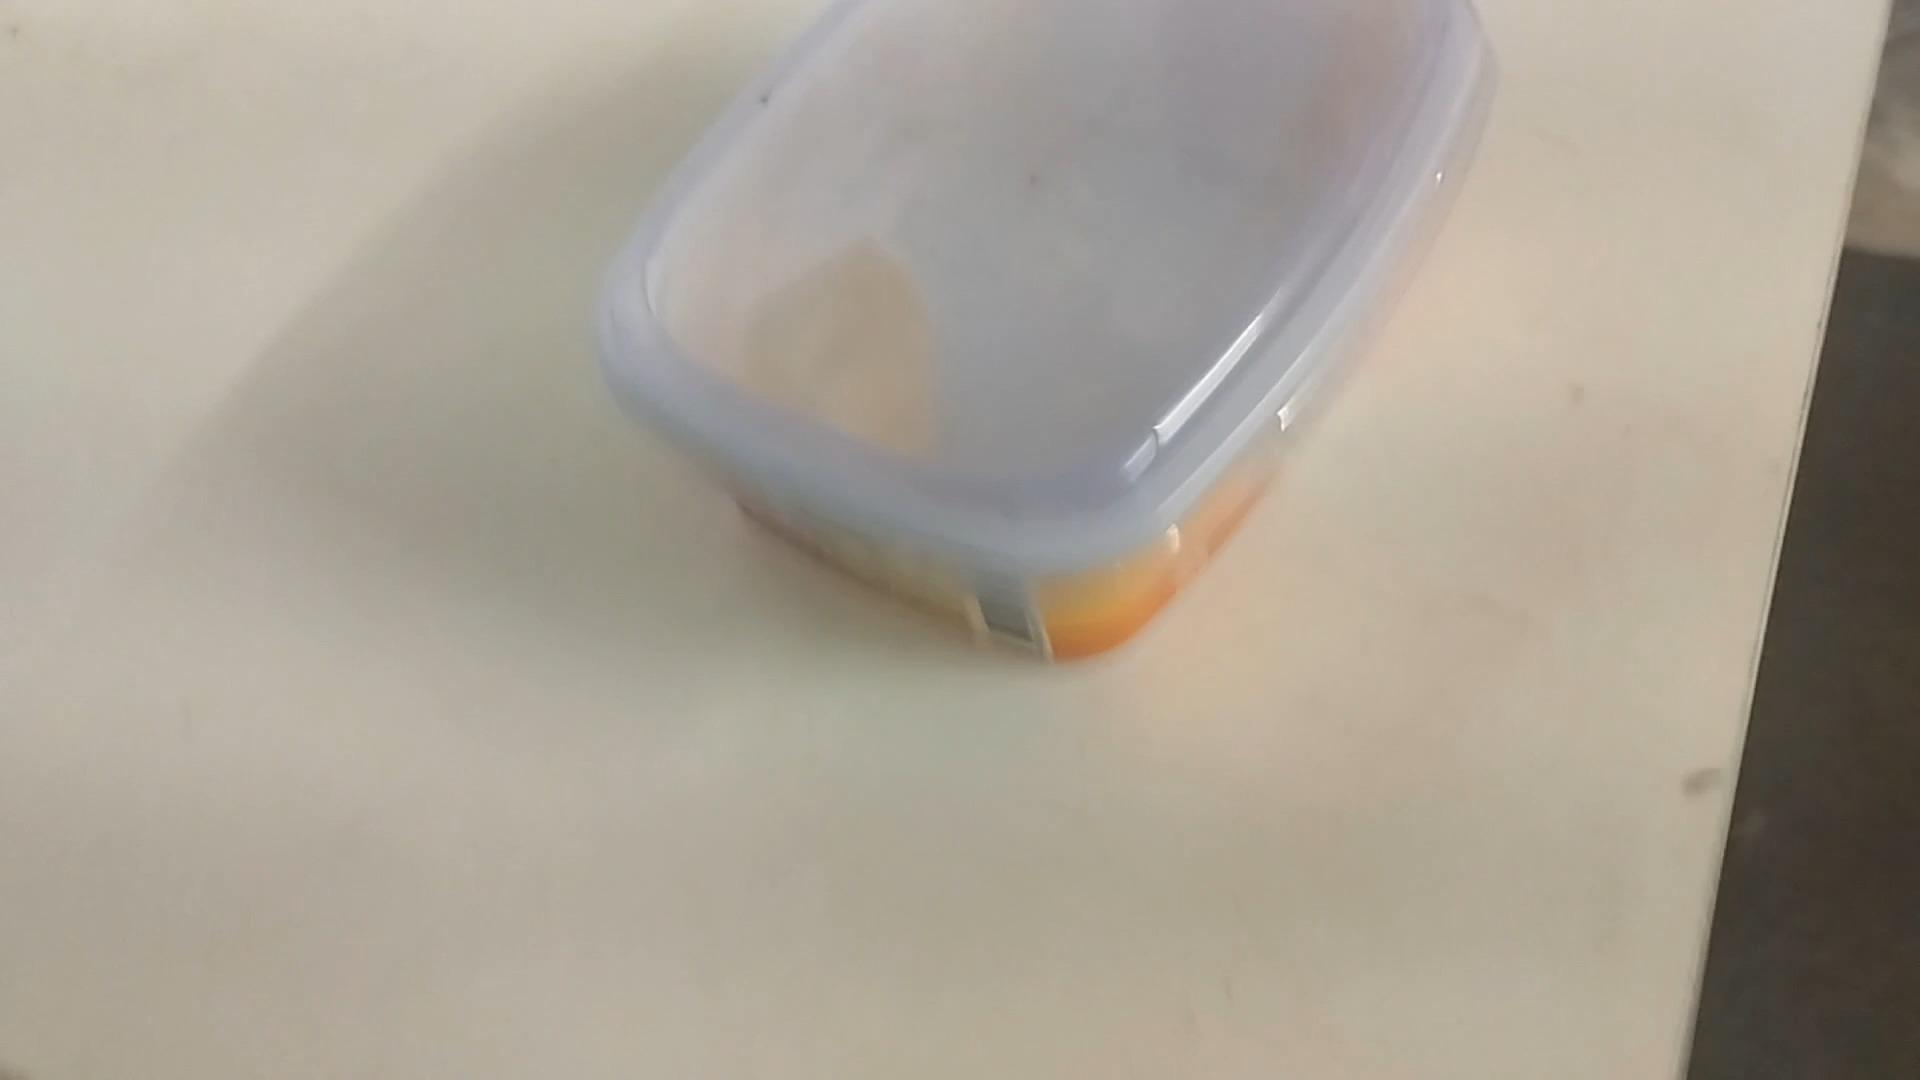butter: (584, 7, 1489, 666)
